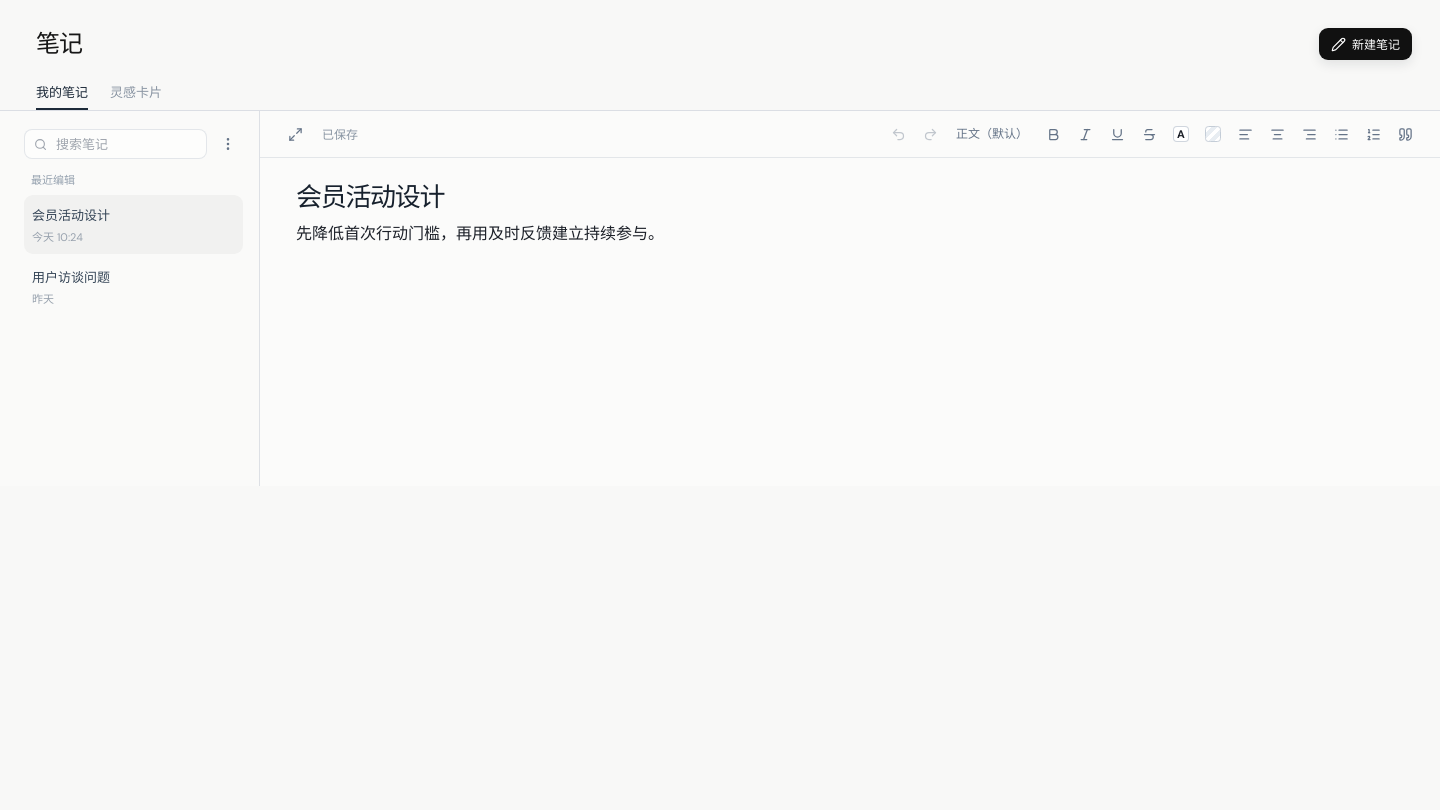
it: NotesWorkspace › offers unfile or permanent deletion choices when deleting a non-empty notebook
This screenshot has width=1440, height=810.
Click the button named "笔记本".
click(228, 144)  # box [213,129,243,159]
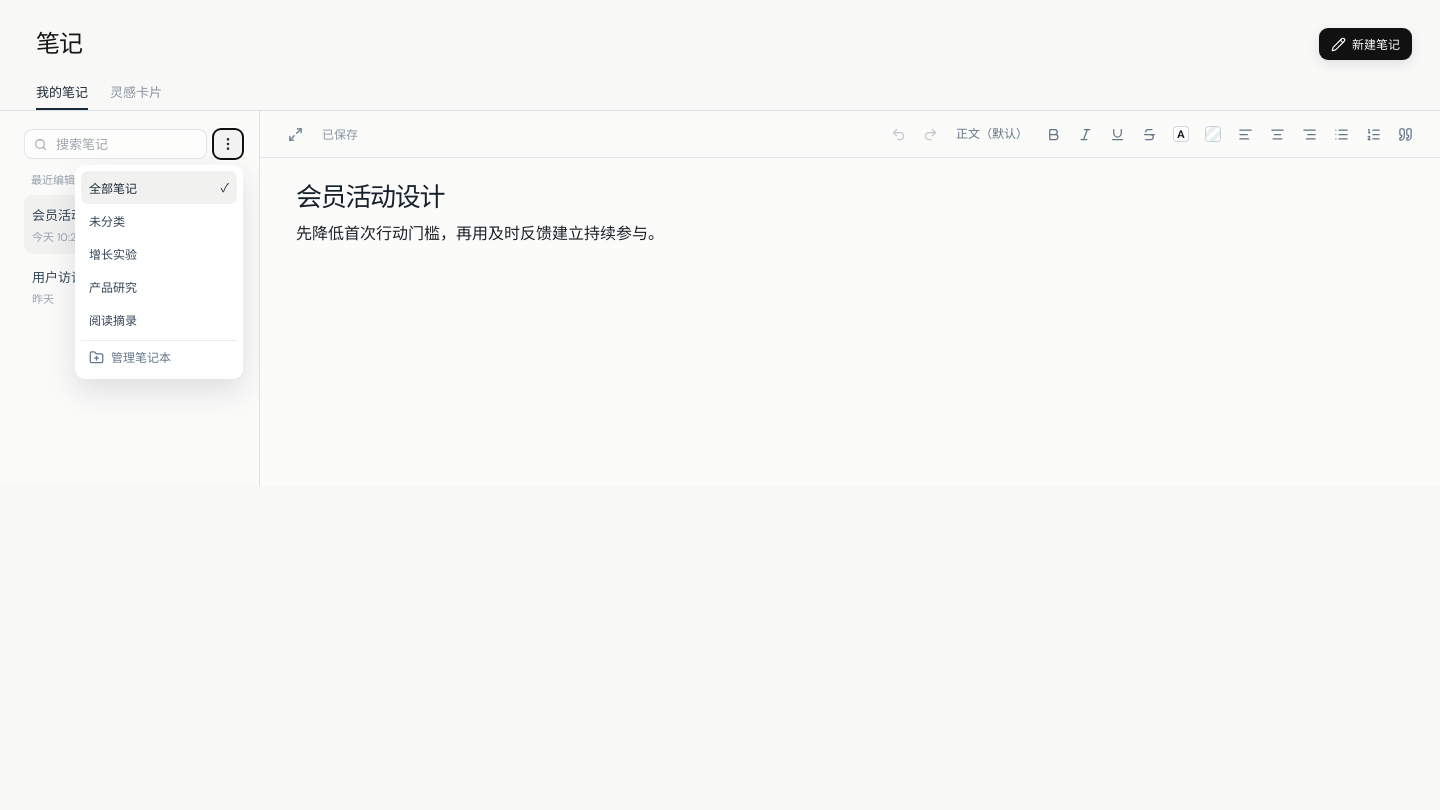
Click the menu item "管理笔记本".
click(159, 356)  # box [81,340,237,373]
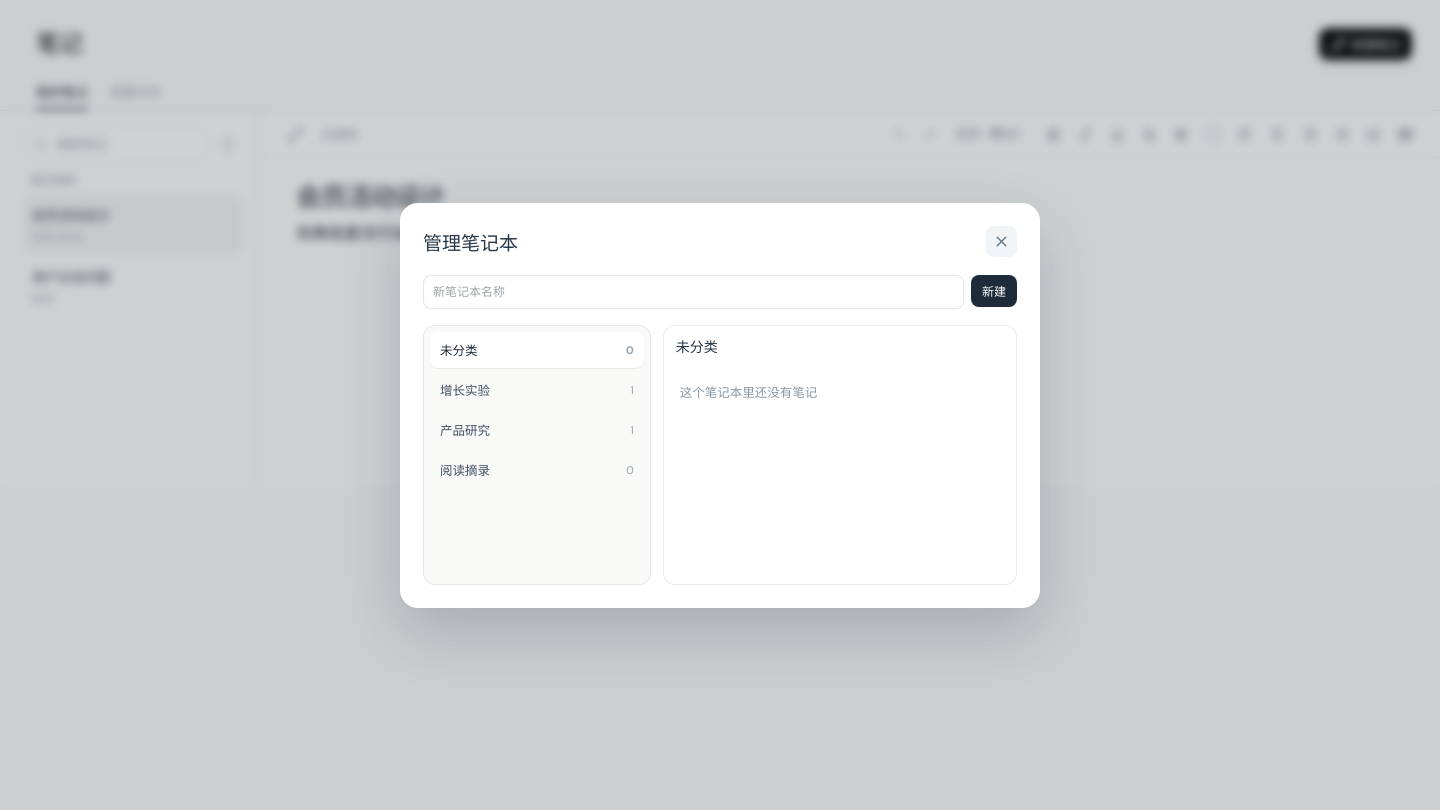
Click the option "增长实验 1".
click(537, 390)  # box [430,372,644,408]
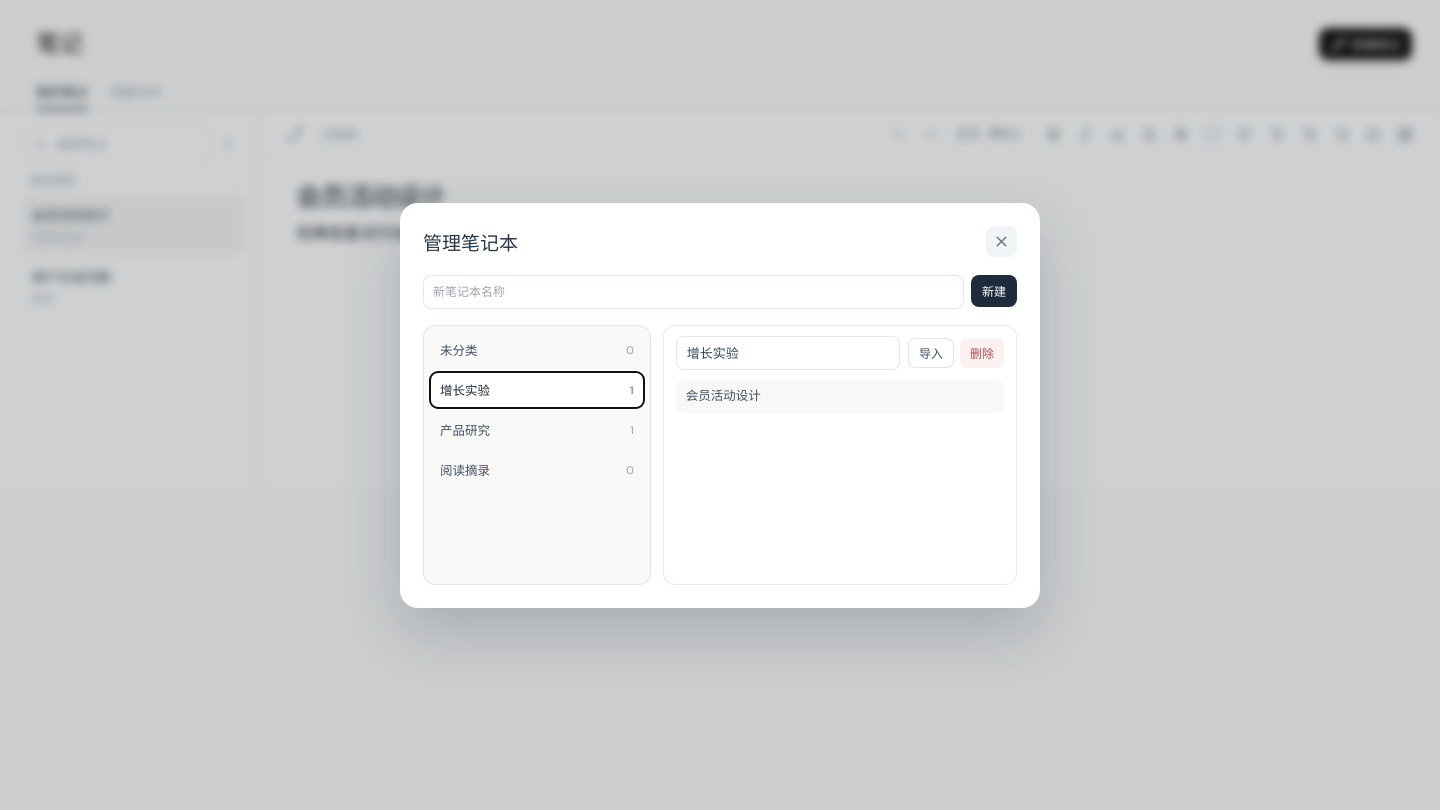
Click the button with aria-label "删除笔记本：增长实验".
click(982, 352)  # box [960,338,1004,368]
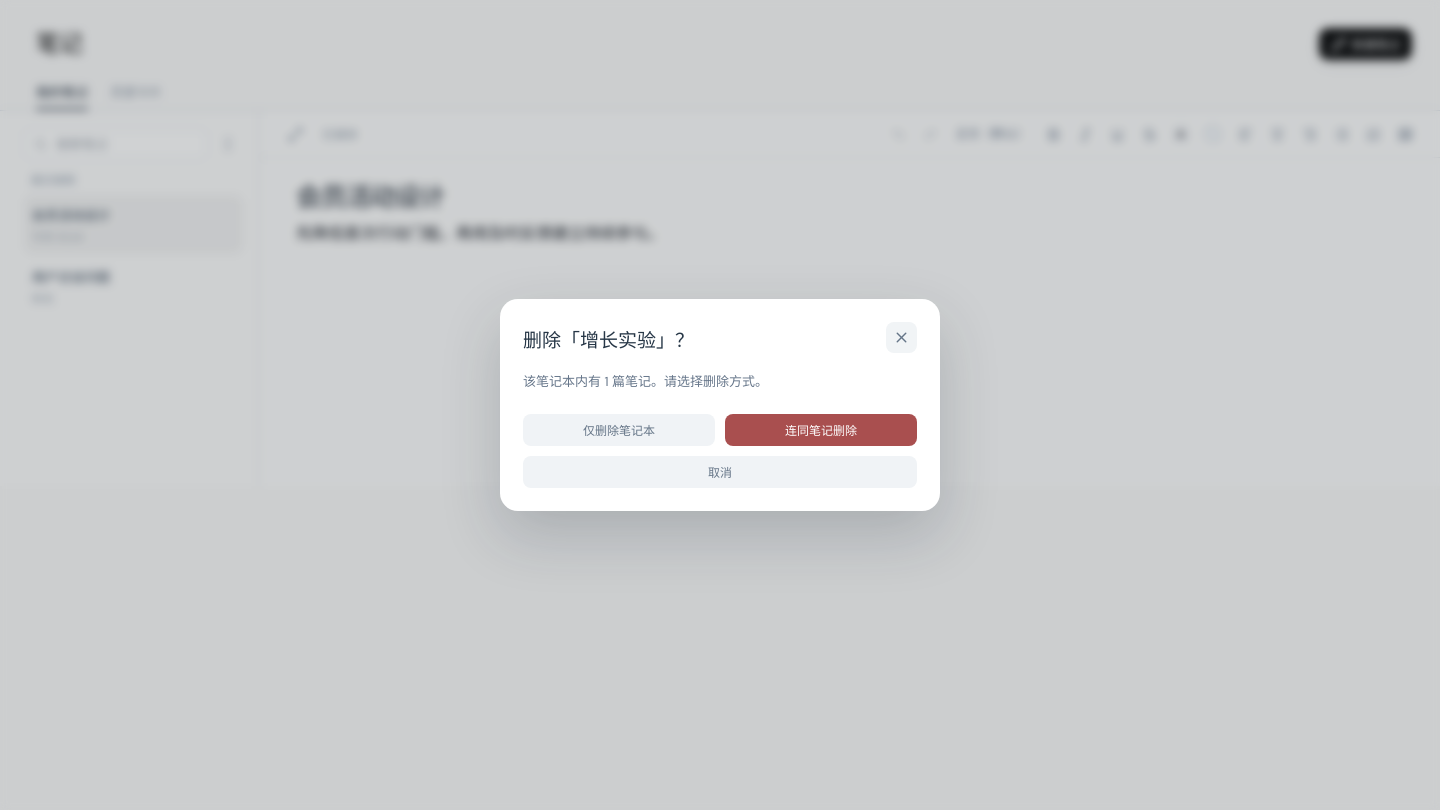
Expected: the dialog "删除笔记本" is shown, [500,300,940,511]
Expected: the button "仅删除笔记本" is shown, [523,414,715,446]
Expected: the button "连同笔记删除" is shown, [725,414,917,446]
